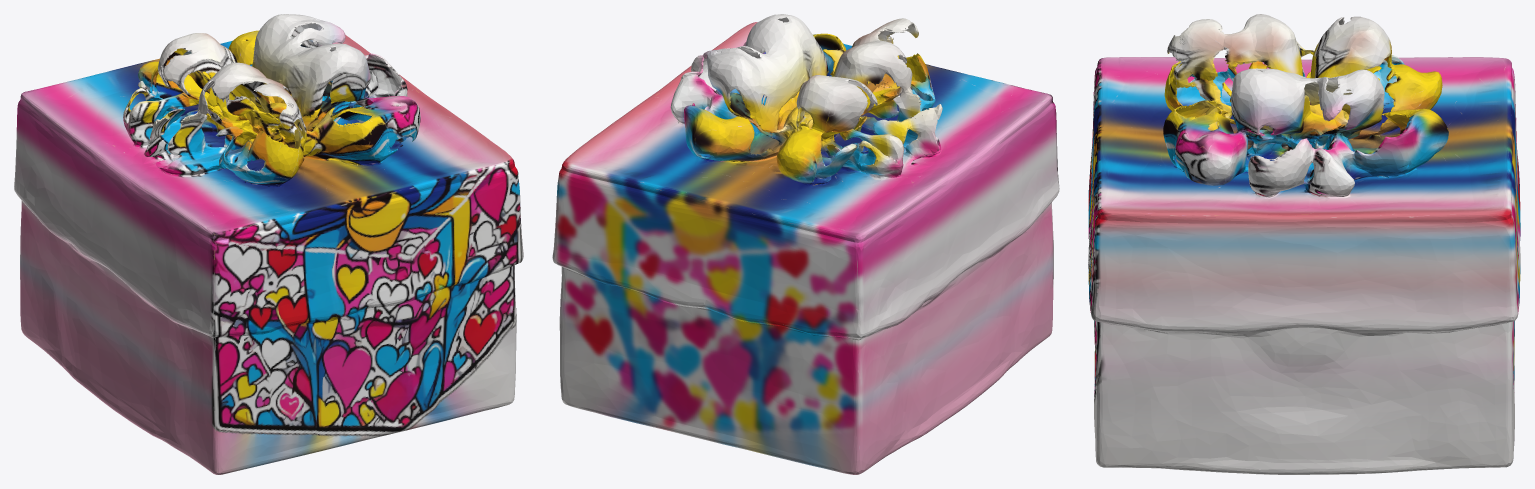
File: kit_fan_box_block.glb
3 renders of one model, left to right at view 1: azimuth 30°, elevation 25°; view 2: azimuth 150°, elevation 25°; view 3: azimuth 270°, elevation 25°, orthographic. The views are drawn at different scales.
Parts seen in each view (by area): view 1: kit_fan_box; view 2: kit_fan_box; view 3: kit_fan_box.
Boxes of the visible parts, bbox=[...] form: kit_fan_box: bbox=[14, 14, 523, 474]; kit_fan_box: bbox=[552, 14, 1059, 474]; kit_fan_box: bbox=[1088, 14, 1520, 474].
Bounding box in the file's own units: 0.8197 × 0.8 × 0.9013.
1 material, 1 textured.
